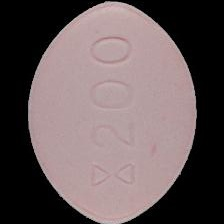33261-229: (0, 0, 224, 224)
